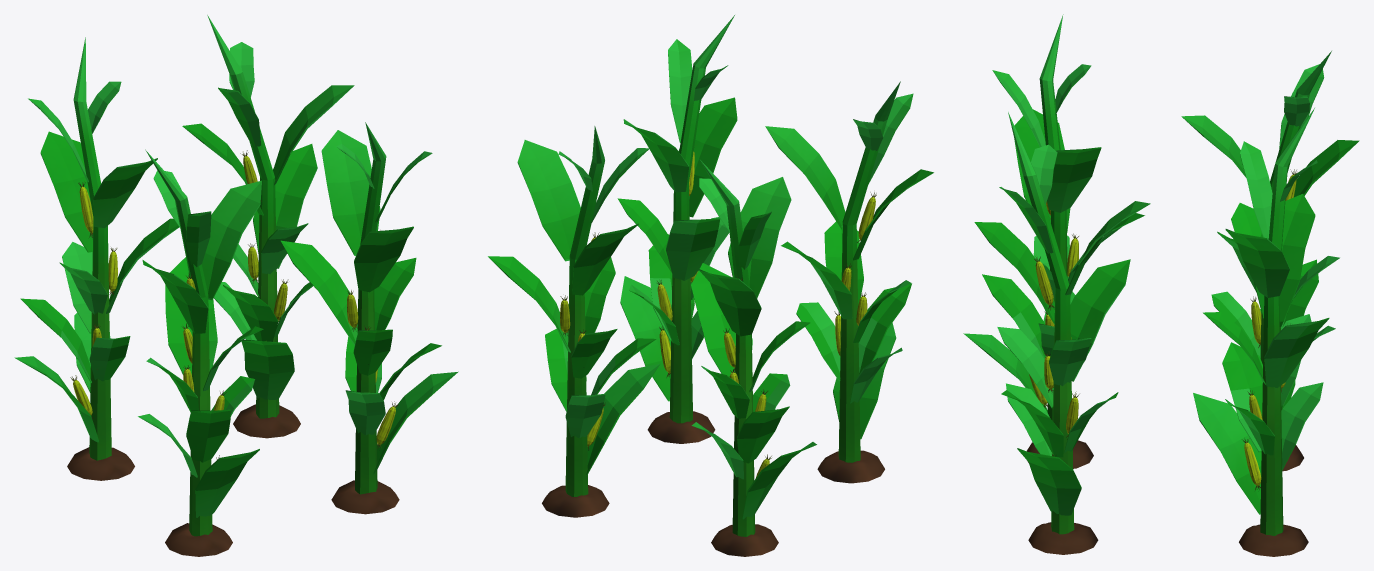
The model's file is Corn4.fbx.
3 views of the same model, side by side, from view 1: azimuth 30°, elevation 25°; view 2: azimuth 150°, elevation 25°; view 3: azimuth 270°, elevation 25° (orthographic). The views are drawn at different scales.
Parts seen in each view (by area): view 1: 4; view 2: 4; view 3: 4.
Boxes of the visible parts, left/top/right/bottom form: 4: left=14, top=15, right=458, bottom=556; 4: left=488, top=15, right=933, bottom=556; 4: left=963, top=14, right=1359, bottom=556.
Size of the model in its own units: 172 by 208 by 180.
